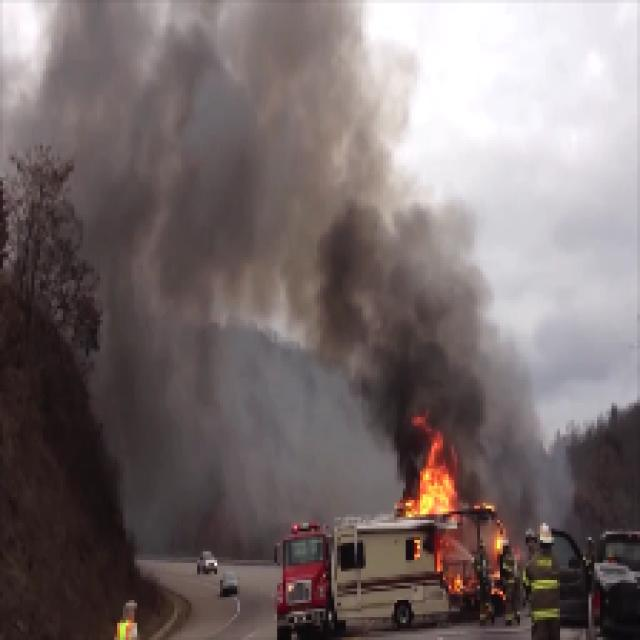fire: (418, 444, 451, 508)
smoke: (226, 78, 352, 308), (356, 232, 454, 429)
